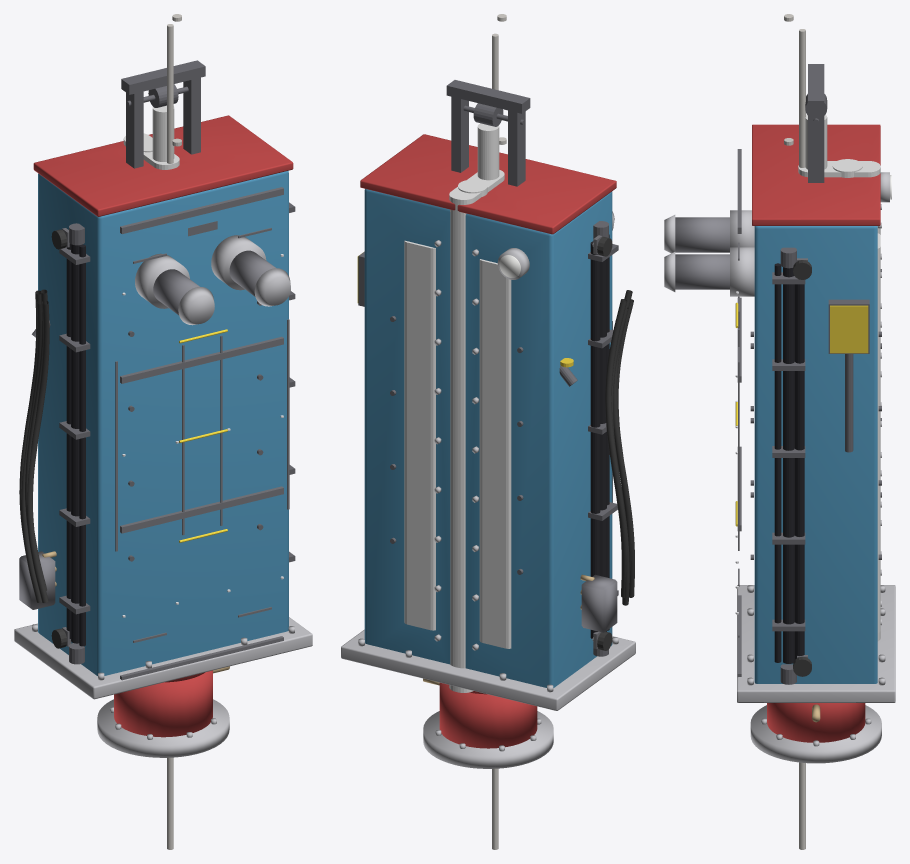
Rendered from injector.glb.
3 views of the same model, side by side, from view 1: azimuth 30°, elevation 25°; view 2: azimuth 150°, elevation 25°; view 3: azimuth 270°, elevation 25° (orthographic).
Visible parts, largest first — view 1: Injector_FrameBody, Injector_TopCap, Injector_BottomFlange, Stripper_PackerHousing, Stripper_BaseFlange, HoseBundle_L_Main, HoseBundle_L_Pilot, HydraulicHose_1, HoseBundle_L_Return, CoRod_Main, CrossMember_F_3, CrossMember_F_1 (+18 smaller); view 2: Injector_FrameBody, Injector_ChainPocket_L_Cutter, Injector_ChainPocket_R_Cutter, Injector_TopCap, Injector_SlotCutter, Injector_BottomFlange, Stripper_PackerHousing, Stripper_BaseFlange, HoseBundle_L_Return, HydraulicHose_2, HoseBundle_L_Main, HydManifold_Left (+9 smaller); view 3: Injector_FrameBody, Injector_TopCap, Injector_BottomFlange, HoseBundle_R_Main, HoseBundle_R_Return, Stripper_BaseFlange, Stripper_PackerHousing, HoseBundle_R_Pilot, DriveMotor_L_Body, DriveMotor_R_Body, JunctionBox_Door, CoRod_Main (+8 smaller).
Part boxes in pixels (bbox=[...]): Injector_FrameBody: bbox=[38, 170, 288, 675]; Injector_TopCap: bbox=[33, 115, 293, 216]; Injector_BottomFlange: bbox=[14, 617, 312, 699]; Stripper_PackerHousing: bbox=[114, 670, 212, 737]; Stripper_BaseFlange: bbox=[97, 699, 229, 757]; HoseBundle_L_Main: bbox=[71, 244, 82, 643]; HoseBundle_L_Pilot: bbox=[79, 244, 85, 646]; HydraulicHose_1: bbox=[27, 301, 49, 602]; HoseBundle_L_Return: bbox=[66, 243, 70, 638]; CoRod_Main: bbox=[167, 24, 173, 849]; CrossMember_F_3: bbox=[120, 187, 283, 234]; CrossMember_F_1: bbox=[120, 486, 283, 533]; Injector_FrameBody: bbox=[364, 189, 612, 687]; Injector_ChainPocket_L_Cutter: bbox=[479, 259, 511, 648]; Injector_ChainPocket_R_Cutter: bbox=[404, 240, 435, 630]; Injector_TopCap: bbox=[360, 134, 616, 234]; Injector_SlotCutter: bbox=[449, 170, 504, 692]; Injector_BottomFlange: bbox=[341, 629, 635, 710]; Stripper_PackerHousing: bbox=[439, 682, 537, 748]; Stripper_BaseFlange: bbox=[423, 711, 553, 768]; HoseBundle_L_Return: bbox=[590, 241, 600, 638]; HydraulicHose_2: bbox=[605, 299, 627, 597]; HoseBundle_L_Main: bbox=[600, 259, 606, 631]; HydManifold_Left: bbox=[581, 574, 617, 632]; Injector_FrameBody: bbox=[754, 226, 877, 683]; Injector_TopCap: bbox=[752, 124, 880, 225]; Injector_BottomFlange: bbox=[737, 585, 895, 702]; HoseBundle_R_Main: bbox=[783, 267, 794, 663]; HoseBundle_R_Return: bbox=[795, 284, 804, 659]; Stripper_BaseFlange: bbox=[750, 705, 881, 763]; Stripper_PackerHousing: bbox=[767, 703, 865, 742]; HoseBundle_R_Pilot: bbox=[774, 263, 781, 662]; DriveMotor_L_Body: bbox=[675, 217, 729, 252]; DriveMotor_R_Body: bbox=[675, 254, 729, 289]; JunctionBox_Door: bbox=[830, 305, 868, 353]; CoRod_Main: bbox=[799, 29, 805, 849].
Bounding box in the file's own units: 1.07 × 3.36 × 0.845.
